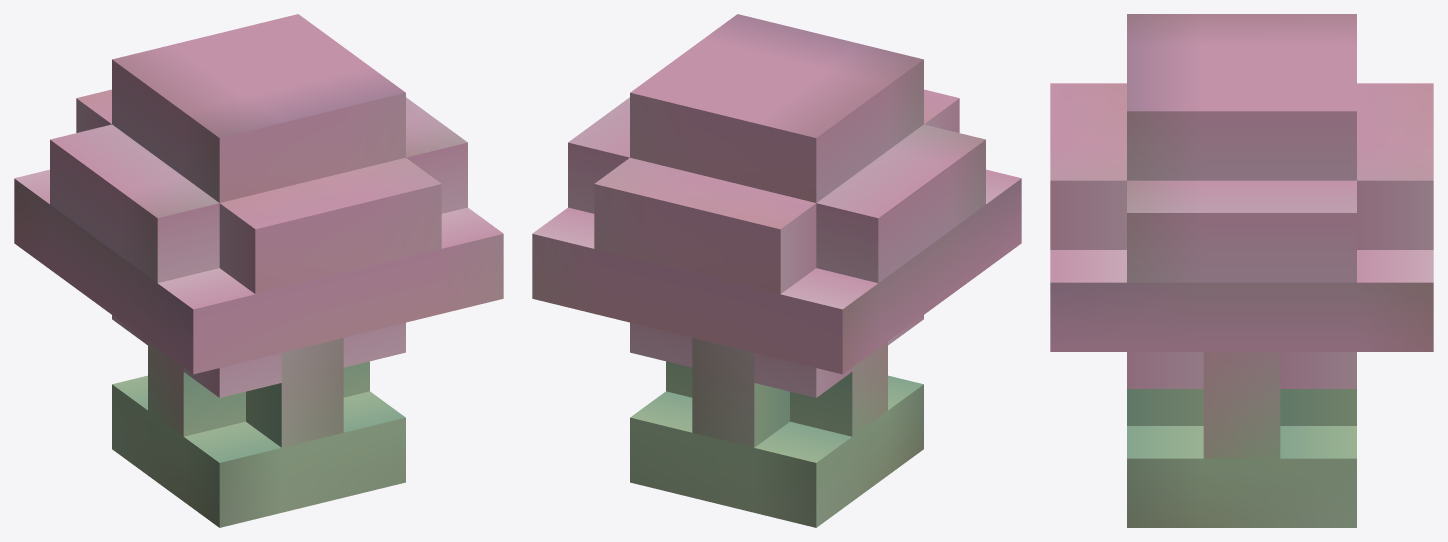
Rendered from LampPink_01.obj.
The picture shows the model from 3 angles, left to right: view 1: azimuth 30°, elevation 25°; view 2: azimuth 150°, elevation 25°; view 3: azimuth 270°, elevation 25°; orthographic projection. The views are drawn at different scales.
Parts seen in each view (by area): view 1: LampPink_01; view 2: LampPink_01; view 3: LampPink_01.
Part boxes in pixels (left/top/right/bottom): LampPink_01: left=14, top=14, right=503, bottom=527; LampPink_01: left=532, top=14, right=1021, bottom=527; LampPink_01: left=1050, top=14, right=1433, bottom=527.
Bounding box in the file's own units: 0.25 × 0.3 × 0.25.
